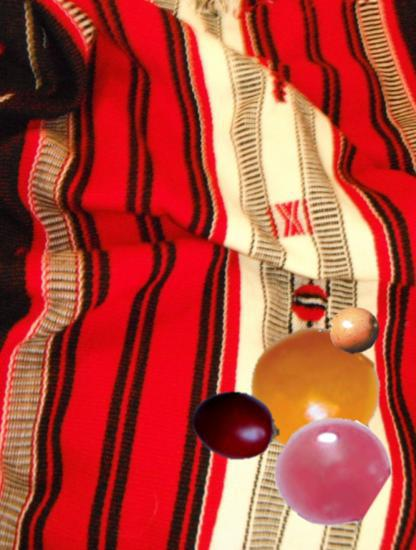Granadilla: (317, 299, 380, 362)
Physalis: (248, 326, 380, 458)
Redcurrant: (276, 415, 388, 527)
Tamarillo: (192, 381, 281, 470)
